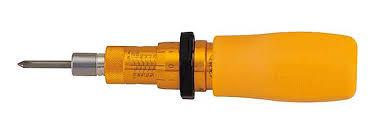screwdriver: (69, 30, 357, 102), (16, 58, 72, 68)
